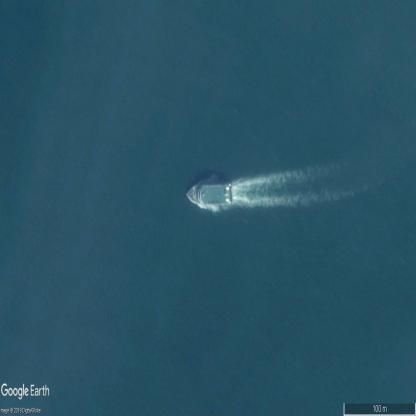ship: (187, 183, 232, 208)
